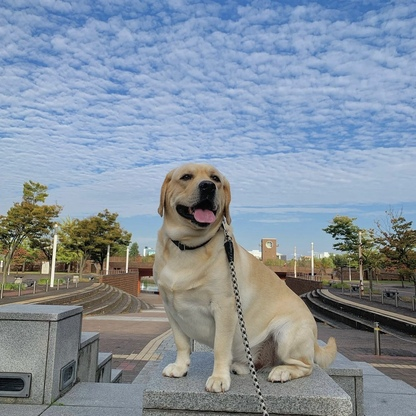labrado: (149, 159, 342, 395)
